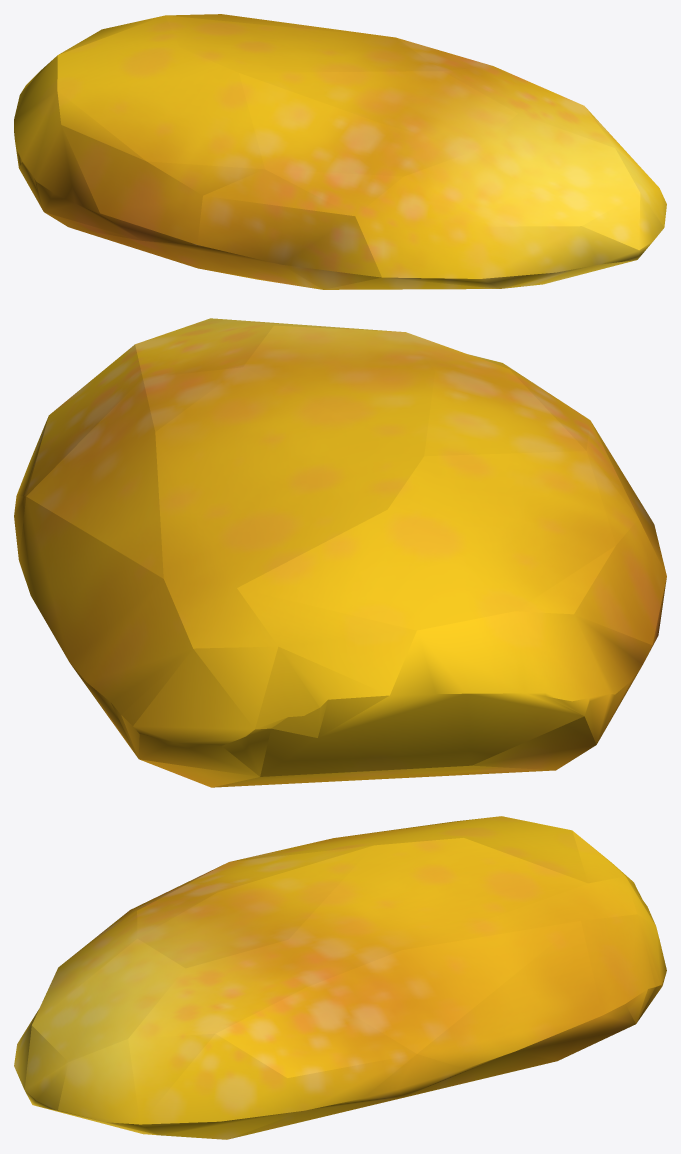
File: WITCH_R_LEG.obj
3 views of the same model, one above another, from view 1: azimuth 30°, elevation 25°; view 2: azimuth 150°, elevation 25°; view 3: azimuth 270°, elevation 25° (orthographic). The views are drawn at different scales.
Parts seen in each view (by area): view 1: WITCH_R_LEG:Mesh; view 2: WITCH_R_LEG:Mesh; view 3: WITCH_R_LEG:Mesh.
Part boxes in pixels (left/top/right/bottom): WITCH_R_LEG:Mesh: left=14, top=14, right=666, bottom=289; WITCH_R_LEG:Mesh: left=14, top=318, right=666, bottom=787; WITCH_R_LEG:Mesh: left=14, top=816, right=666, bottom=1139.
Size of the model in its own units: 0.3589 by 0.1298 by 0.3966.
Materials: 1 (1 with a texture image).
